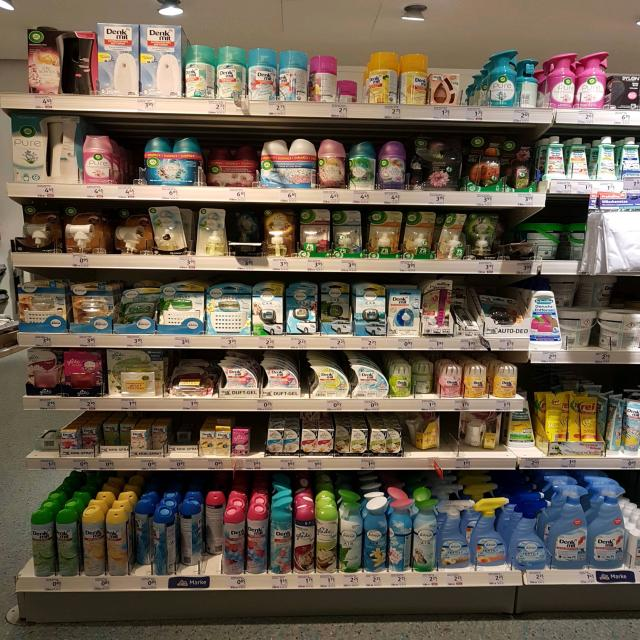empty: (1, 26, 31, 97)
